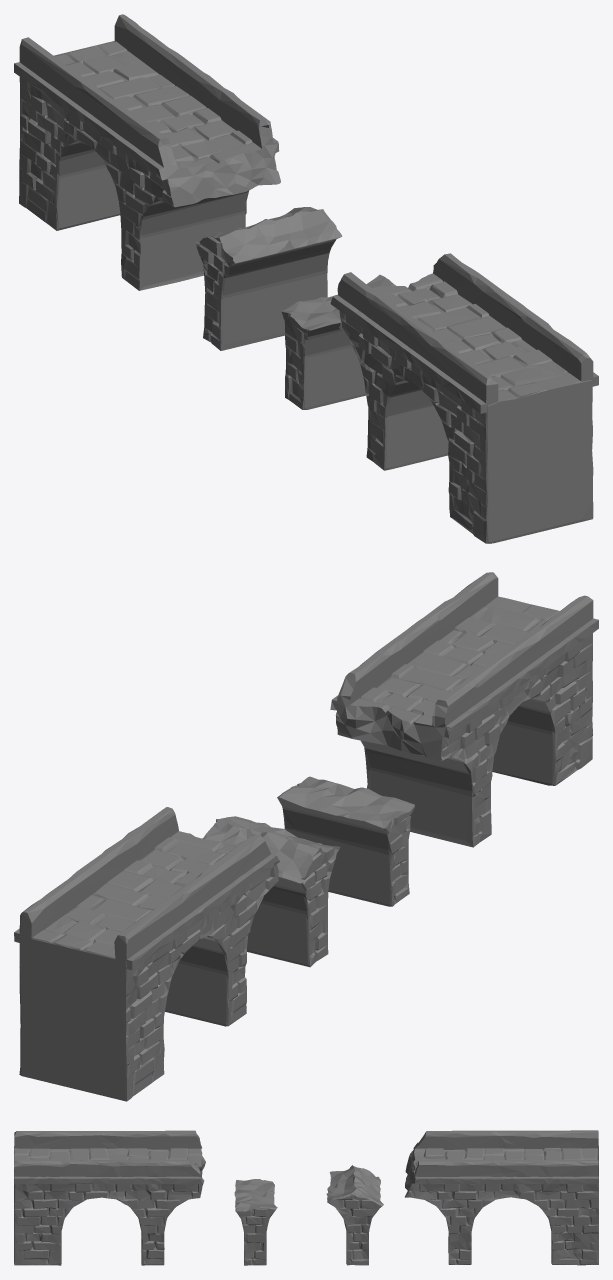
File: bridge_d_destroyed.FBX
The picture shows the model from 3 angles, top to bottom: view 1: azimuth 30°, elevation 25°; view 2: azimuth 150°, elevation 25°; view 3: azimuth 270°, elevation 25°; orthographic projection. The views are drawn at different scales.
Parts seen in each view (by area): view 1: bridge_d_destroyed; view 2: bridge_d_destroyed; view 3: bridge_d_destroyed.
Part boxes in pixels (<box>): bridge_d_destroyed: <box>14,14,598,543</box>; bridge_d_destroyed: <box>14,572,598,1101</box>; bridge_d_destroyed: <box>14,1130,598,1265</box>.
Size of the model in its own units: 4.41 by 5.83 by 30.
